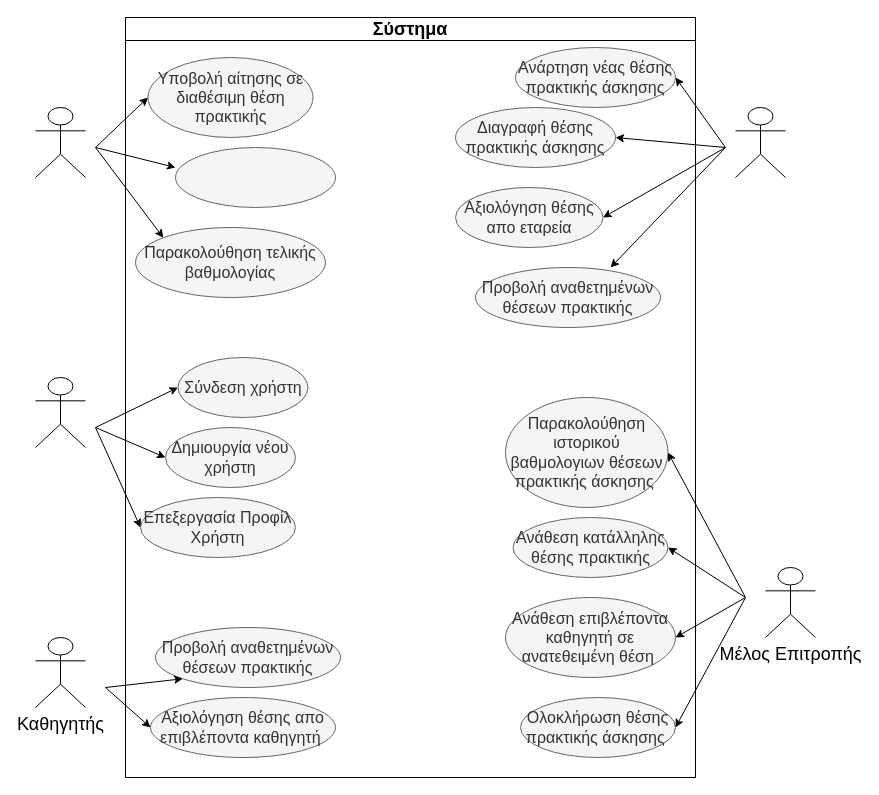
This 879x795 diagram has some shape labels left out. The shapes that lost their labels are listed below. From the top down, each one's centre as x and y in pixels, then its label:
At (x=60, y=142): "Φοιτητής".
At (x=760, y=142): "Εταιρεία".
At (x=255, y=177): "Ενημέρωση logbook φοιτητή".
At (x=60, y=412): "Χρήστης".
